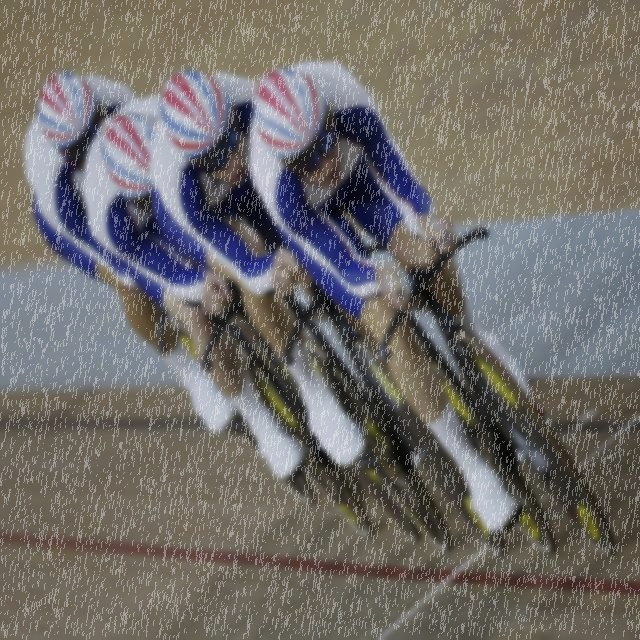pessoa: (248, 59, 533, 536), (80, 92, 310, 484), (148, 69, 368, 468), (23, 68, 238, 434)
